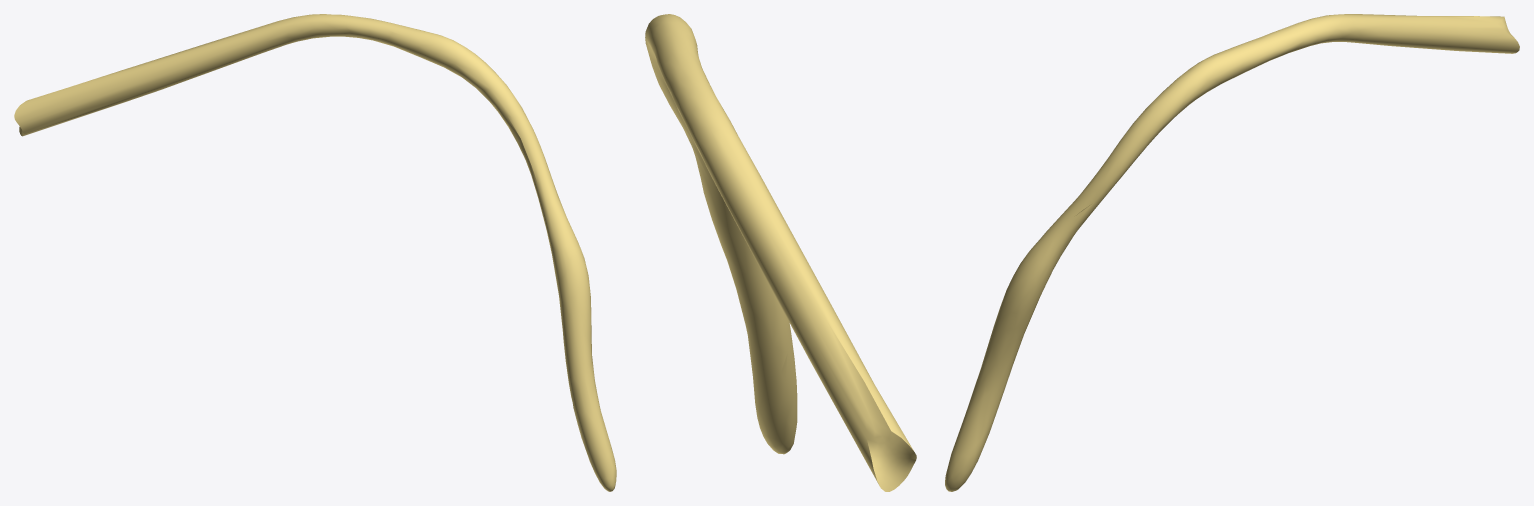
The model's file is fma80284-l_mm2639.glb.
3 renders of one model, left to right at view 1: azimuth 30°, elevation 25°; view 2: azimuth 150°, elevation 25°; view 3: azimuth 270°, elevation 25°, orthographic. The views are drawn at different scales.
Parts seen in each view (by area): view 1: FMA80284-L_MM2639; view 2: FMA80284-L_MM2639; view 3: FMA80284-L_MM2639.
Boxes of the visible parts, box(x1,y1,x2,y2) form: FMA80284-L_MM2639: box(14, 14, 616, 491); FMA80284-L_MM2639: box(645, 14, 916, 491); FMA80284-L_MM2639: box(945, 14, 1519, 491).
Size of the model in its own units: 0.0153 by 0.0159 by 0.0201.
